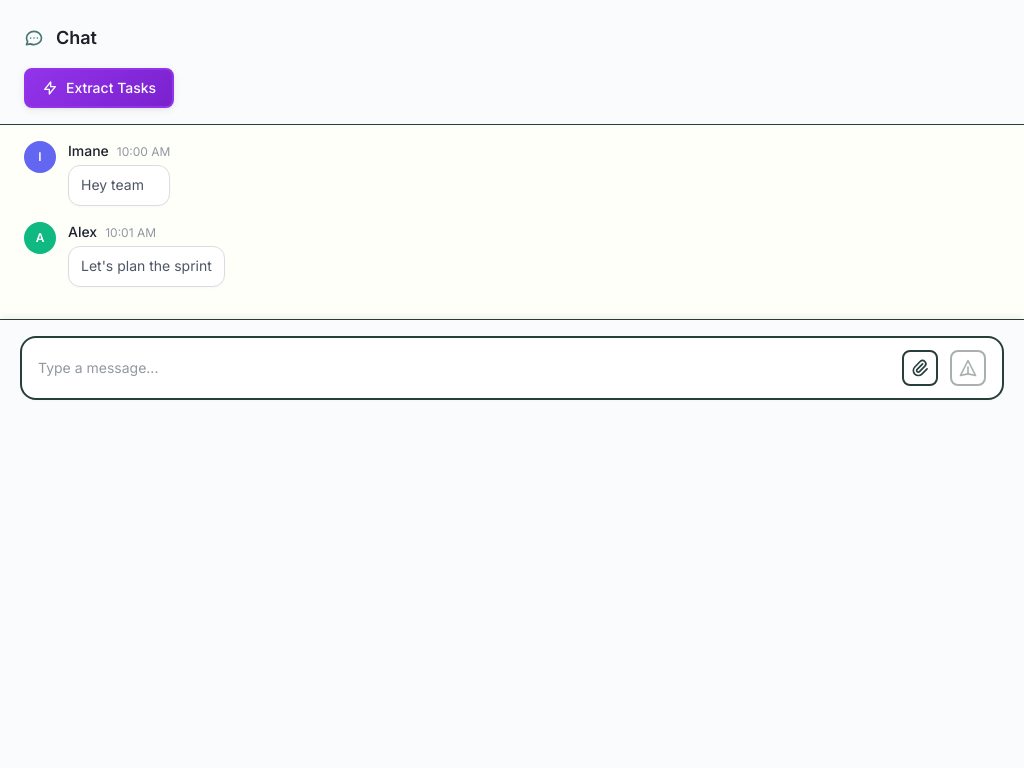
Test: ChatPanel › opens AI task modal after successful extraction
The image size is (1024, 768).
Step 1. Click the button "Extract Tasks" → x=99, y=88, box x1=24 y1=68 x2=174 y2=108
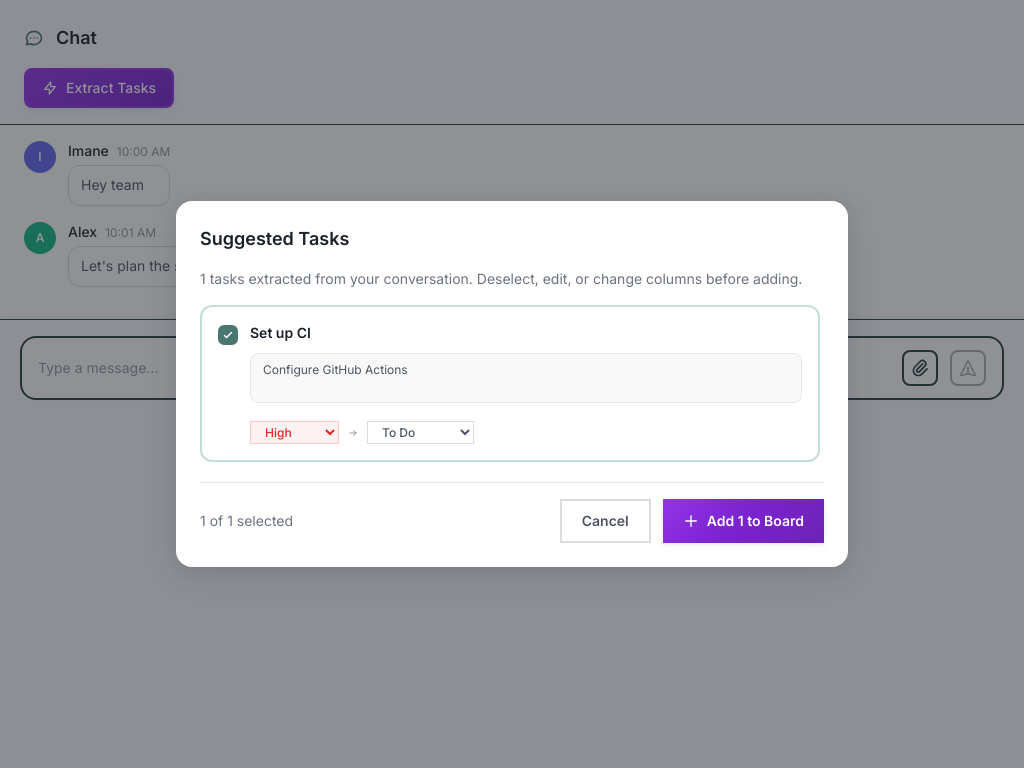
Check: the heading "Suggested Tasks" is shown, box x1=200 y1=228 x2=349 y2=249
Check: the field showing "Set up CI" is shown, box x1=250 y1=323 x2=802 y2=343
